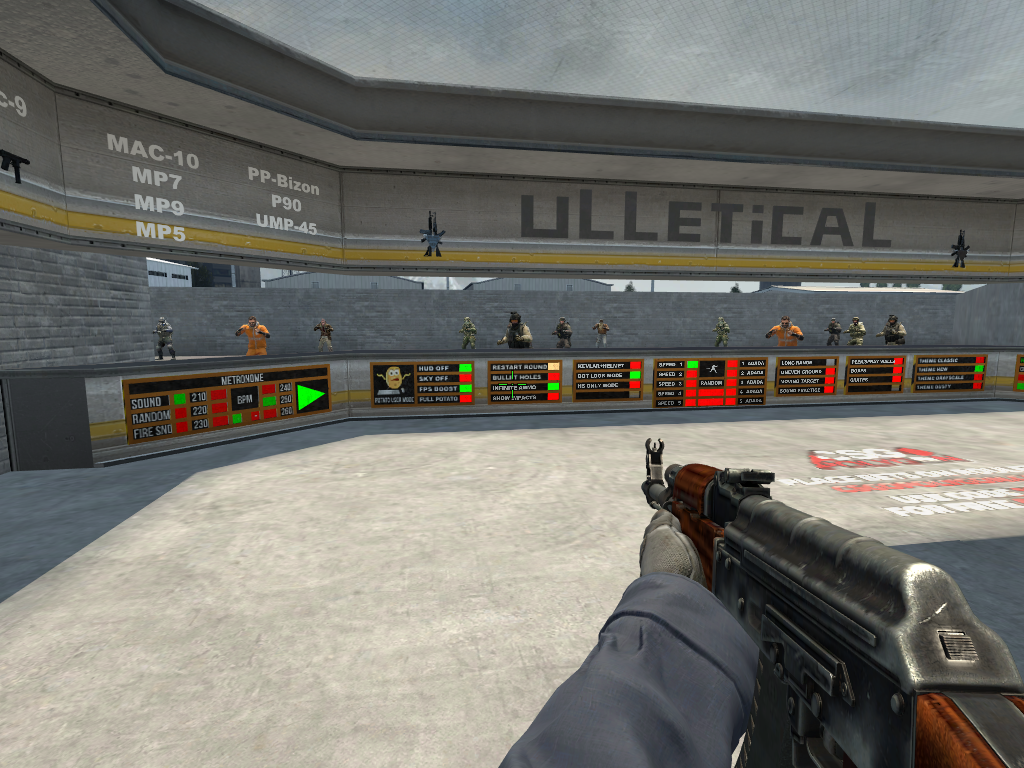ct head: (510, 314, 520, 325), (888, 316, 897, 324), (158, 317, 165, 325), (852, 317, 859, 325), (559, 318, 566, 325), (464, 317, 470, 324), (831, 318, 836, 324), (718, 318, 723, 324)
tr head: (781, 316, 790, 328), (248, 316, 256, 327), (321, 319, 325, 325), (599, 319, 603, 325)
